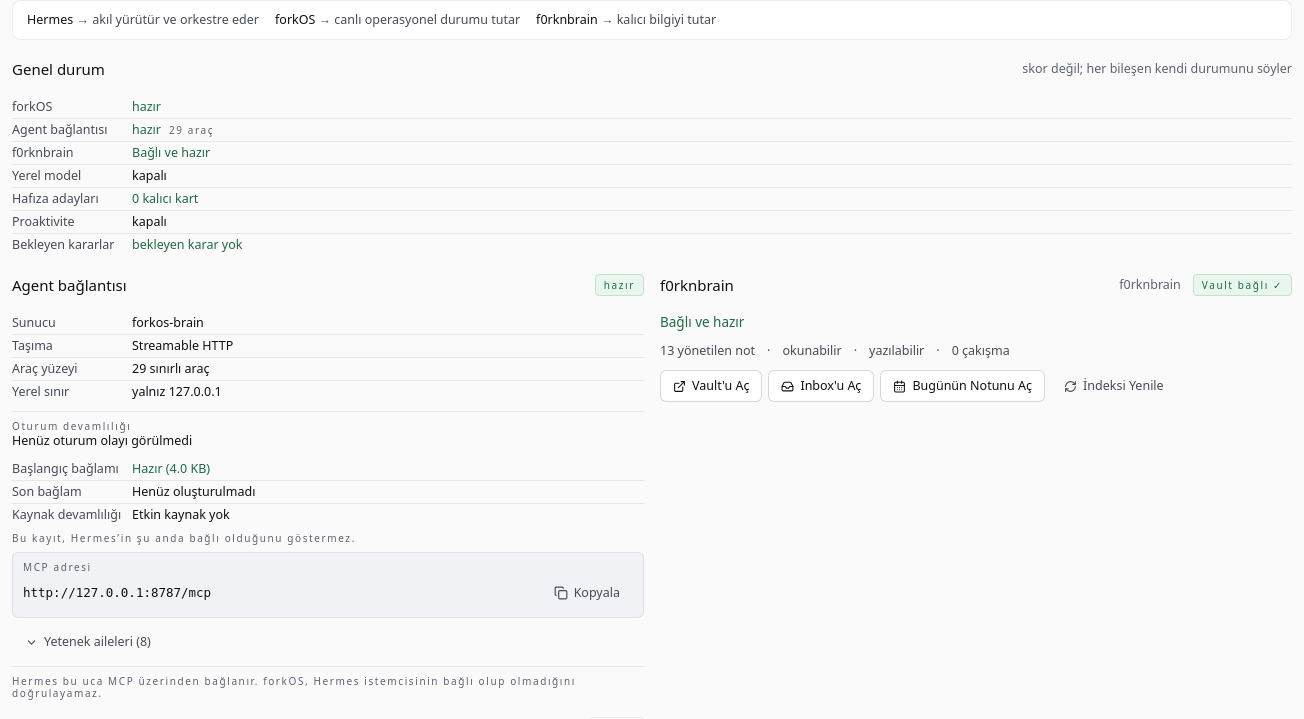
f0rknbrain kartı › indeks yenilemeyi yerel uca gönderir
This screenshot has width=1304, height=719.
expect the heading "Genel durum" is shown: met, box [12,59,105,79]
What coordinates should you click on to do the following:
click the button "İndeksi Yenile"
I would click on:
 (1114, 386)
Its box is [1051,370,1177,402].
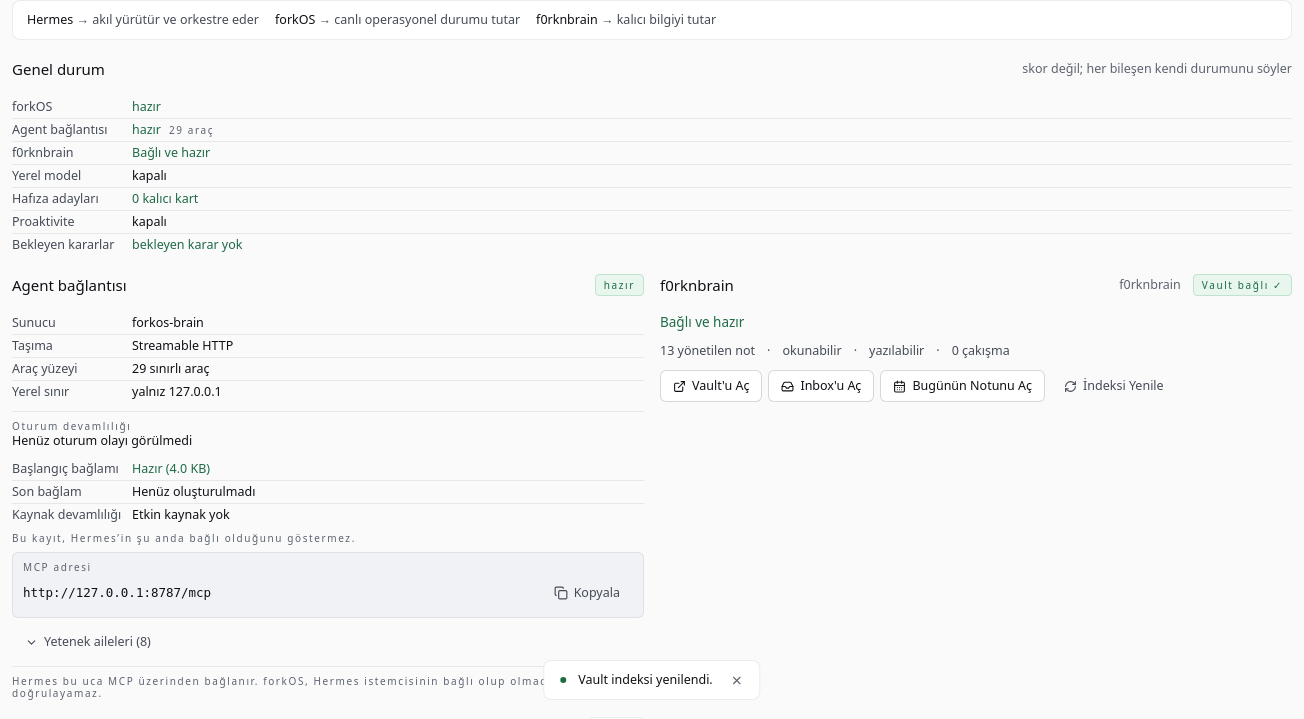
expect the text "Vault indeksi yenilendi." is shown: met, box [578,671,713,689]
